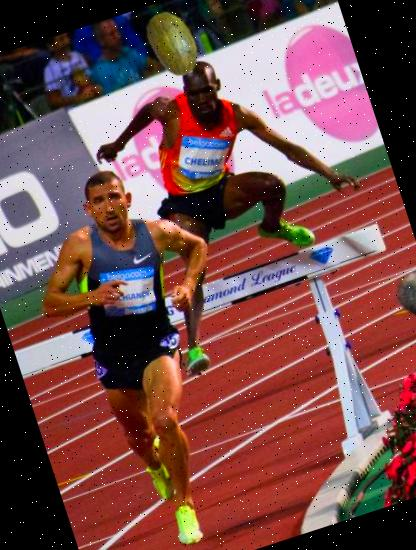Melon: (131, 0, 216, 87)
